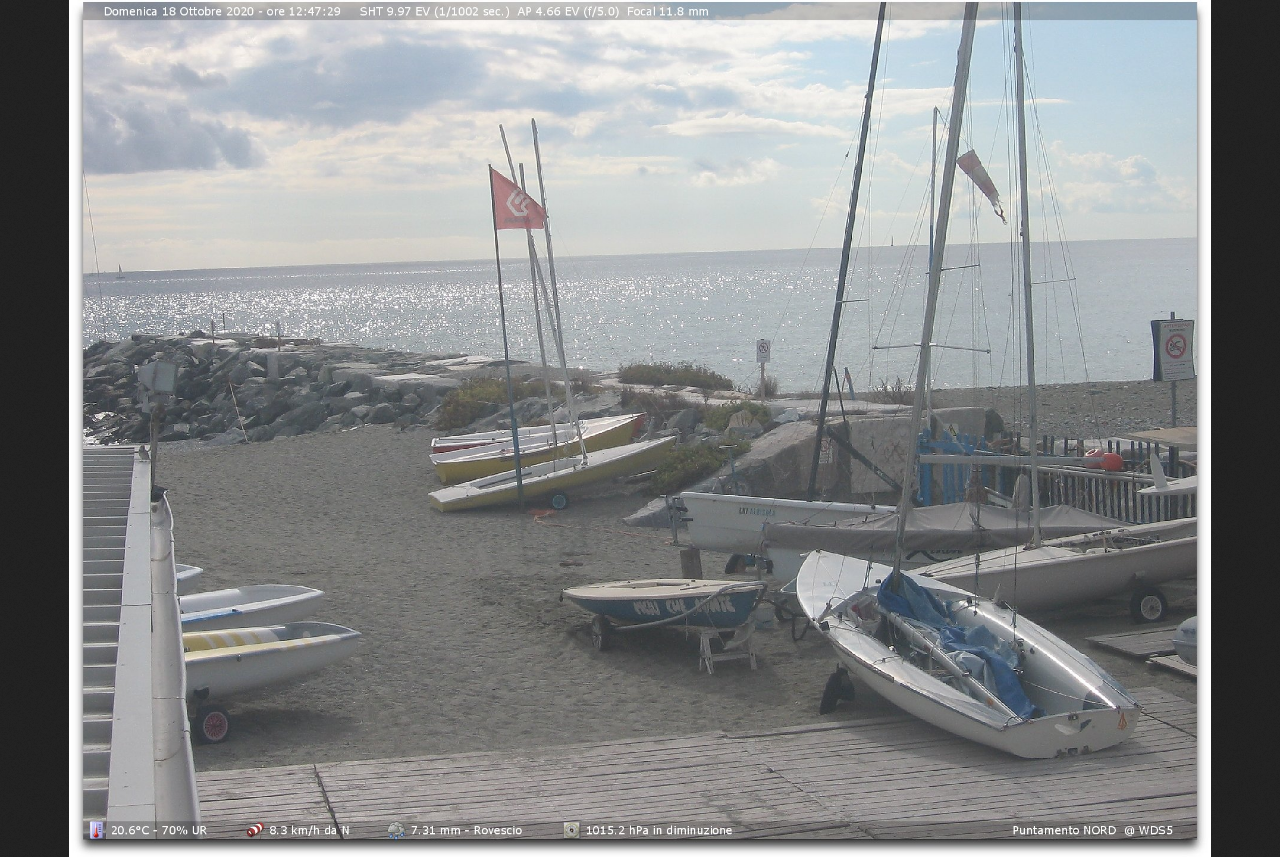maybe: (488, 162, 551, 237)
